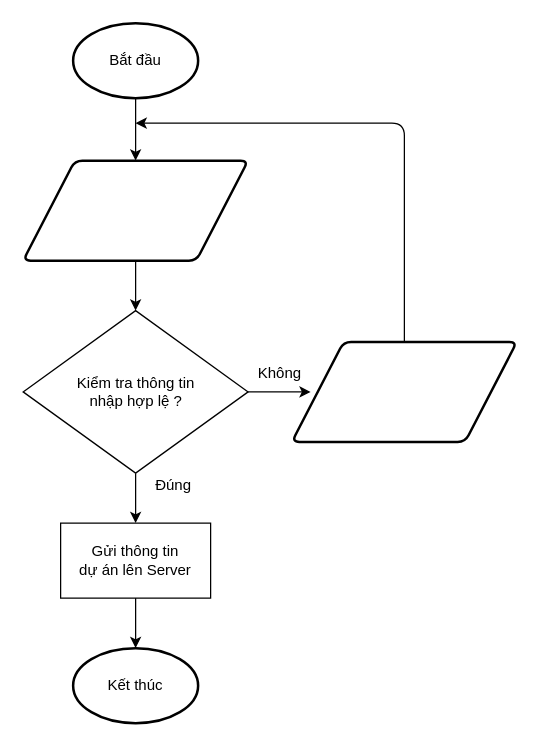
Some shapes in this 539 by 745 pixel diagram are drawn without their labels. The centre of each missing label's shape, as x and y in pixels:
"Hiển thị thông báo thông tin không hợp lệ" goes at [404,391].
"Nhập thông tin dự án" goes at [135,210].
